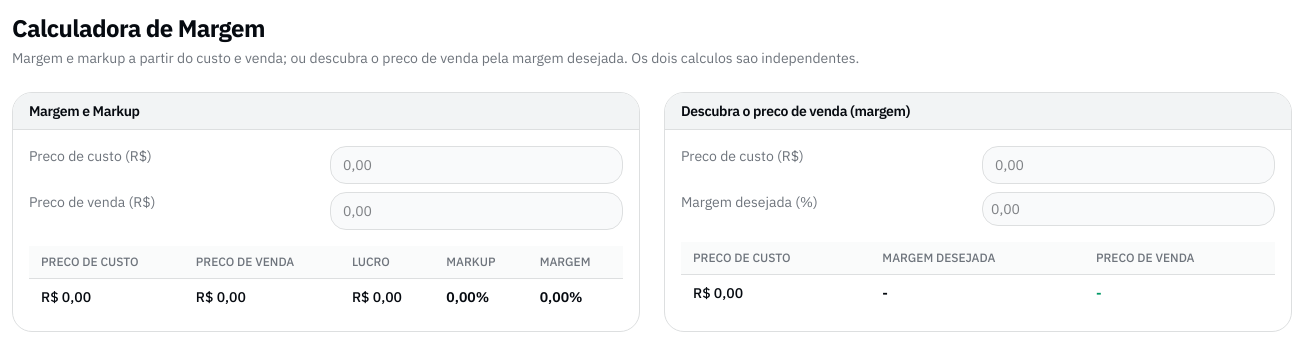
Scenario: CalculadoraMargem — estados independentes › preco de custo do card esquerdo nao altera o direito
Type "100" into the field with id "markup-custo".
click(476, 165); type("100")  # box [330, 146, 623, 184]
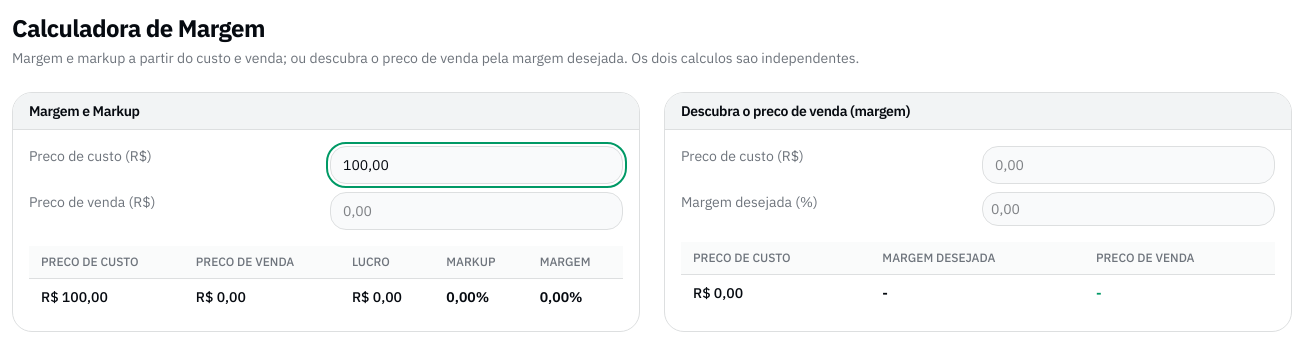
Check: the field with id "margem-custo" is empty, box [982, 146, 1275, 184]
Check: the field with id "markup-custo" is not empty, box [330, 146, 623, 184]
